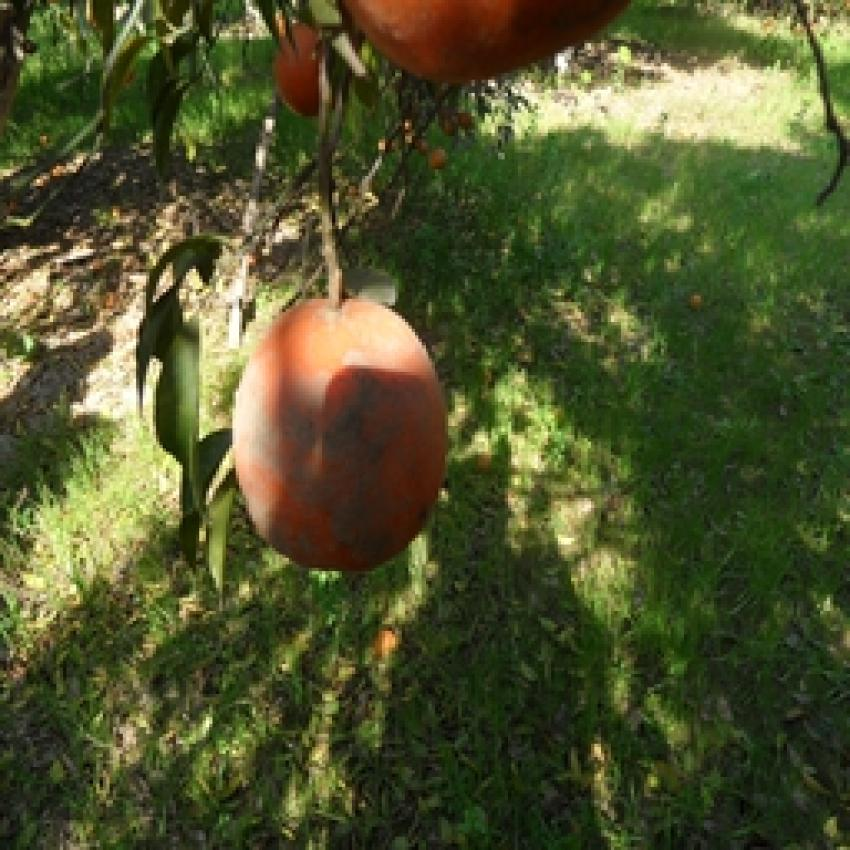Mal estado: (217, 288, 452, 585)
